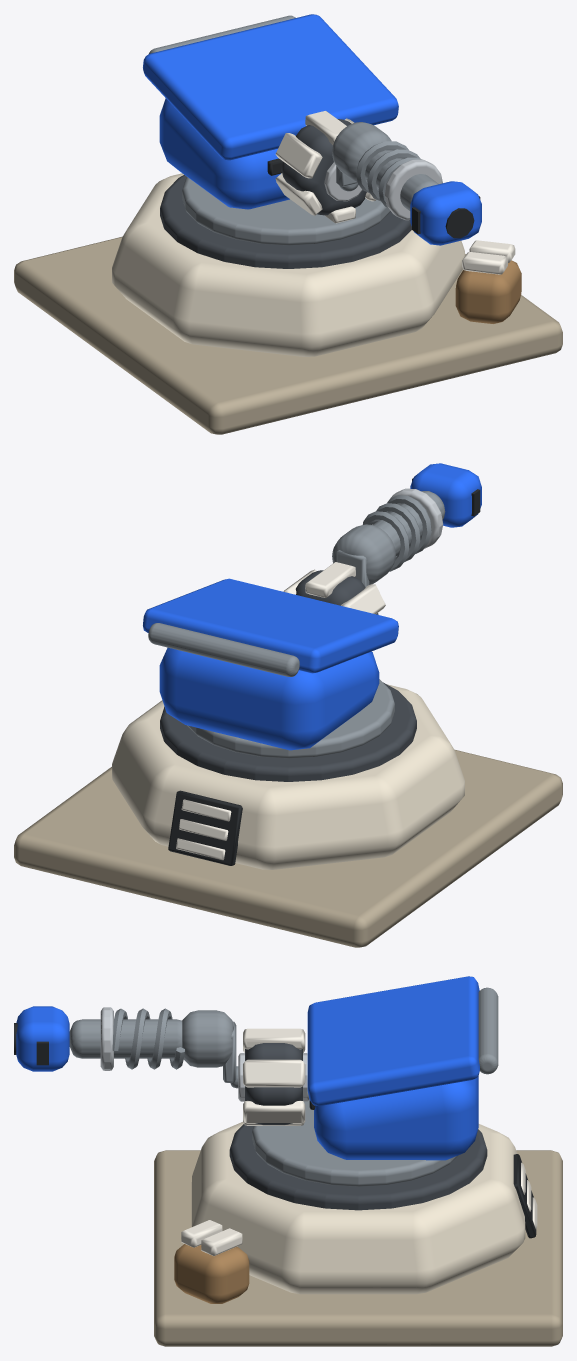
Rendered from gun_turret.glb.
3 renders of one model, top to bottom at view 1: azimuth 30°, elevation 25°; view 2: azimuth 150°, elevation 25°; view 3: azimuth 270°, elevation 25°, orthographic.
Visible parts, largest first — view 1: stage_0__M_SugarPad, stage_2__M_CreamPlastic, turret__M_Team, turret__M_SpringSteel, stage_3__M_SmokePlastic, stage_2__M_Kraft, drum__M_Bone, barrel__M_Team, drum__M_SmokePlastic, spring__M_SpringSteel, barrel__M_Foil, stage_3__M_Bone (+3 smaller); view 2: stage_0__M_SugarPad, stage_2__M_CreamPlastic, turret__M_Team, turret__M_SpringSteel, stage_3__M_SmokePlastic, stage_2__M_Dark, barrel__M_Team, spring__M_SpringSteel, drum__M_Bone, stage_2__M_Bone, drum__M_SmokePlastic, barrel__M_SpringSteel (+1 smaller); view 3: stage_0__M_SugarPad, stage_2__M_CreamPlastic, turret__M_Team, turret__M_SpringSteel, stage_3__M_SmokePlastic, drum__M_Bone, stage_2__M_Kraft, barrel__M_SpringSteel, barrel__M_Team, drum__M_SmokePlastic, spring__M_SpringSteel, stage_3__M_Bone (+3 smaller).
Boxes of the visible parts, <box> form: stage_0__M_SugarPad: <box>14,236,562,434</box>; stage_2__M_CreamPlastic: <box>112,173,464,356</box>; turret__M_Team: <box>143,14,398,209</box>; turret__M_SpringSteel: <box>149,15,391,245</box>; stage_3__M_SmokePlastic: <box>160,175,411,268</box>; stage_2__M_Kraft: <box>455,260,521,323</box>; drum__M_Bone: <box>275,111,376,223</box>; barrel__M_Team: <box>410,181,481,245</box>; drum__M_SmokePlastic: <box>281,119,366,215</box>; spring__M_SpringSteel: <box>356,141,421,207</box>; barrel__M_Foil: <box>384,159,442,220</box>; stage_3__M_Bone: <box>462,240,515,274</box>; stage_0__M_SugarPad: <box>14,749,562,947</box>; stage_2__M_CreamPlastic: <box>112,684,464,869</box>; turret__M_Team: <box>143,578,398,750</box>; turret__M_SpringSteel: <box>148,524,395,758</box>; stage_3__M_SmokePlastic: <box>160,682,416,781</box>; stage_2__M_Dark: <box>168,790,242,865</box>; barrel__M_Team: <box>410,463,481,527</box>; spring__M_SpringSteel: <box>362,495,431,571</box>; drum__M_Bone: <box>283,562,385,614</box>; stage_2__M_Bone: <box>176,799,231,860</box>; drum__M_SmokePlastic: <box>295,570,378,614</box>; barrel__M_SpringSteel: <box>373,491,445,556</box>; stage_0__M_SugarPad: <box>154,1150,562,1346</box>; stage_2__M_CreamPlastic: <box>191,1122,525,1294</box>; turret__M_Team: <box>307,976,479,1160</box>; turret__M_SpringSteel: <box>182,987,498,1186</box>; stage_3__M_SmokePlastic: <box>229,1124,487,1210</box>; drum__M_Bone: <box>243,1028,305,1125</box>; stage_2__M_Kraft: <box>174,1244,249,1303</box>; barrel__M_SpringSteel: <box>69,1019,182,1058</box>; barrel__M_Team: <box>16,1006,69,1071</box>; drum__M_SmokePlastic: <box>245,1043,302,1125</box>; spring__M_SpringSteel: <box>112,1008,184,1069</box>; stage_3__M_Bone: <box>181,1220,242,1255</box>.
Bounding box in the file's own units: 0.92 × 0.6316 × 1.24.
